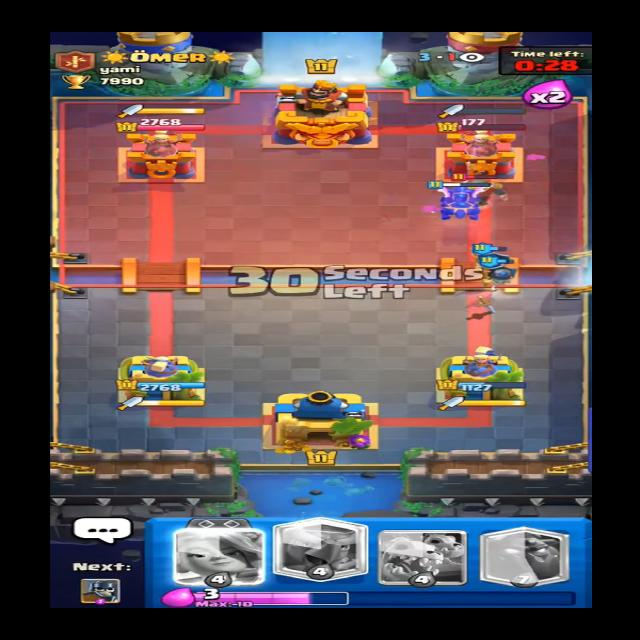knight: (443, 167, 510, 210)
